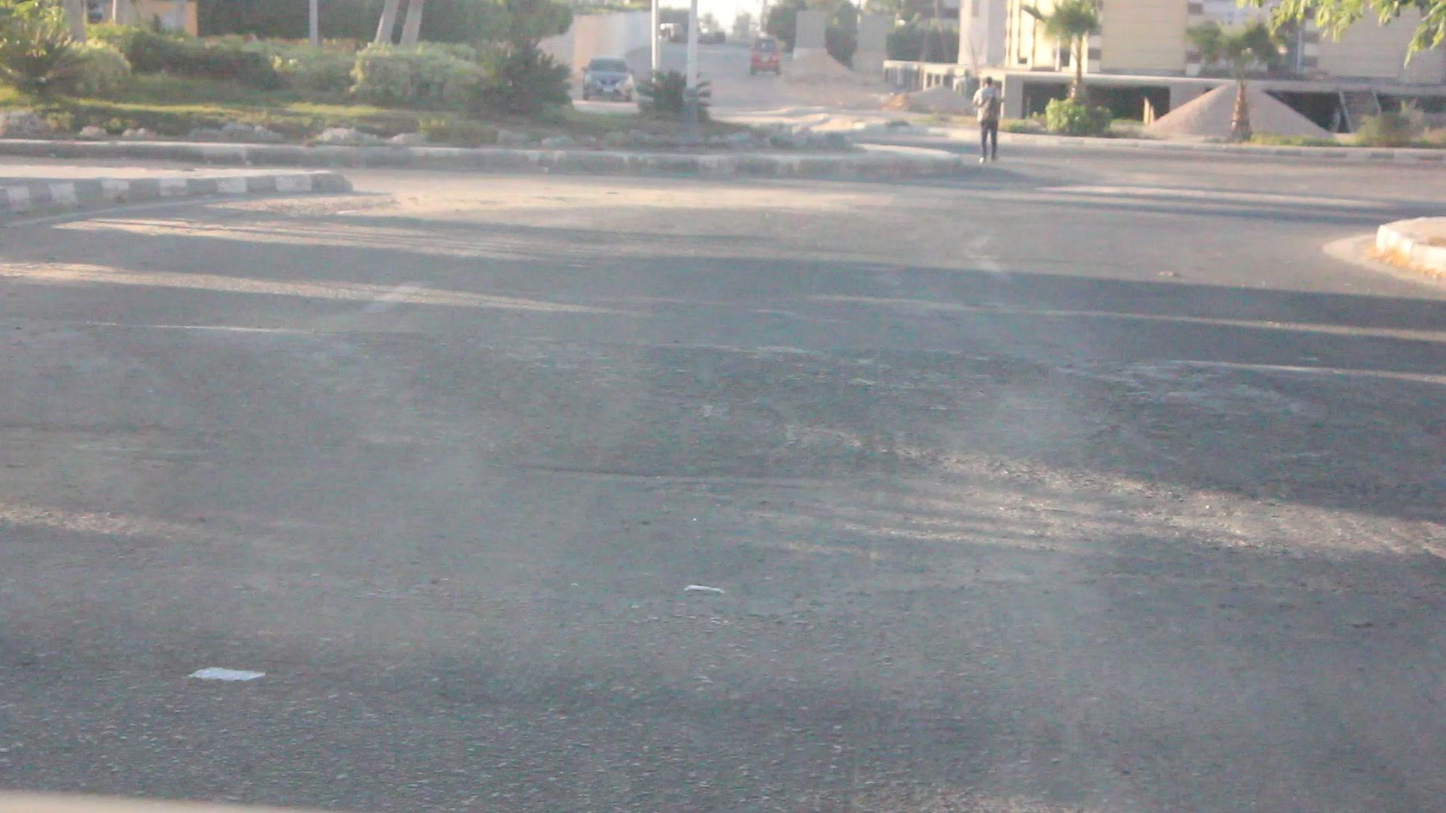Bump: (6, 322, 1446, 514)
